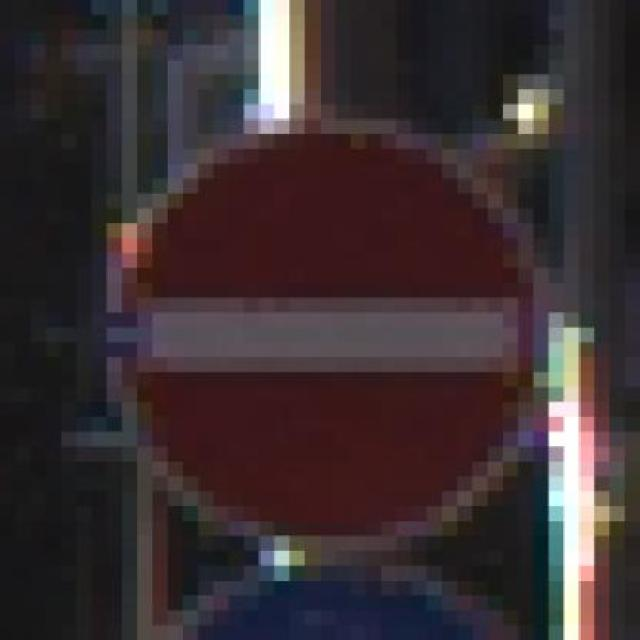No Entry: (88, 98, 561, 559)
